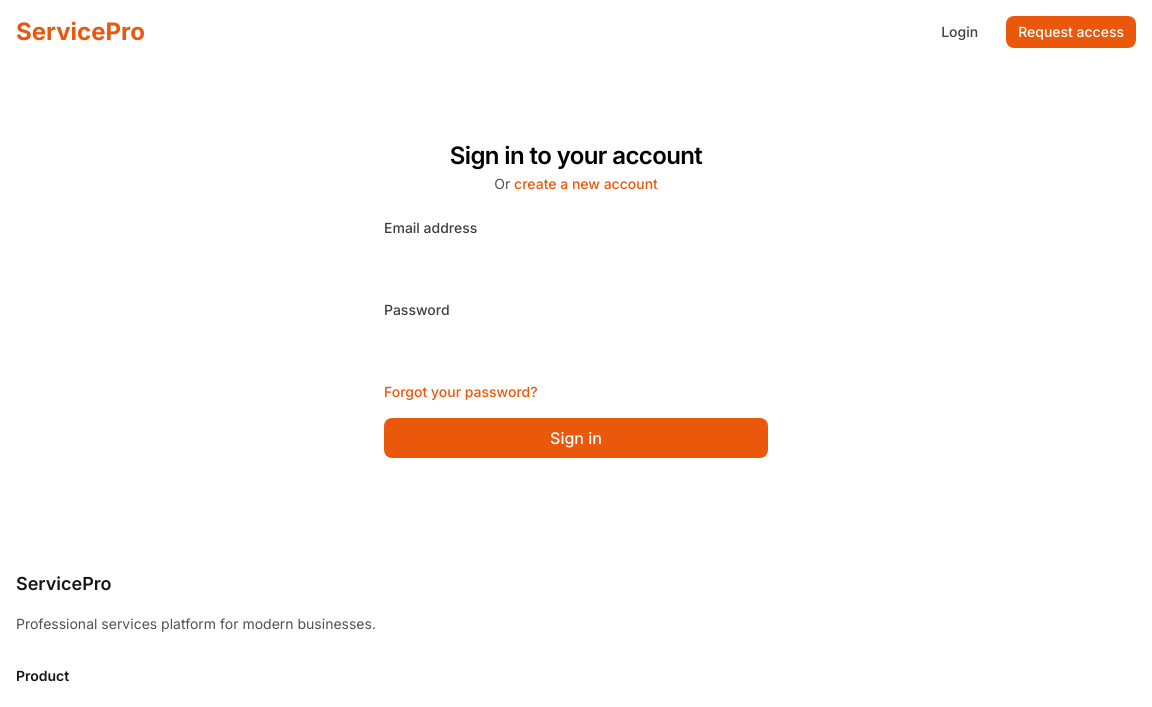
it: LoginPage › Form Validation › shows error for empty email
Click the button "Sign in". click: click(576, 438)
box: [384, 418, 768, 458]
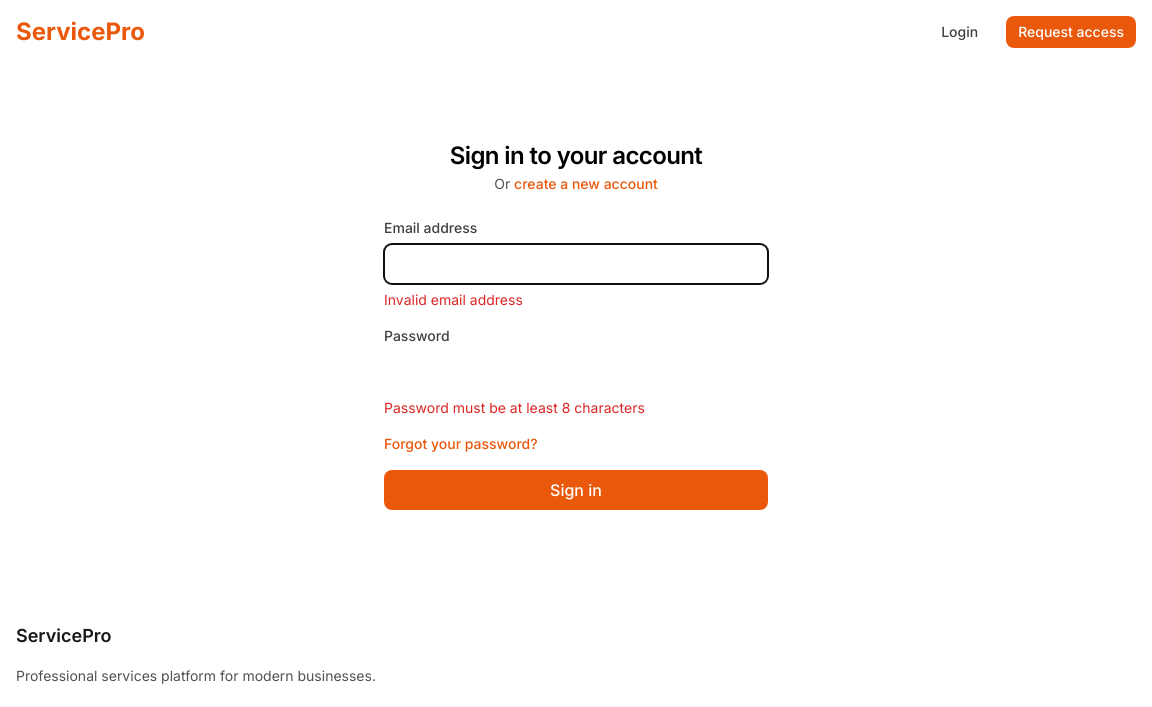
expect the text "Invalid email address" is shown: met, box [384, 291, 523, 308]
